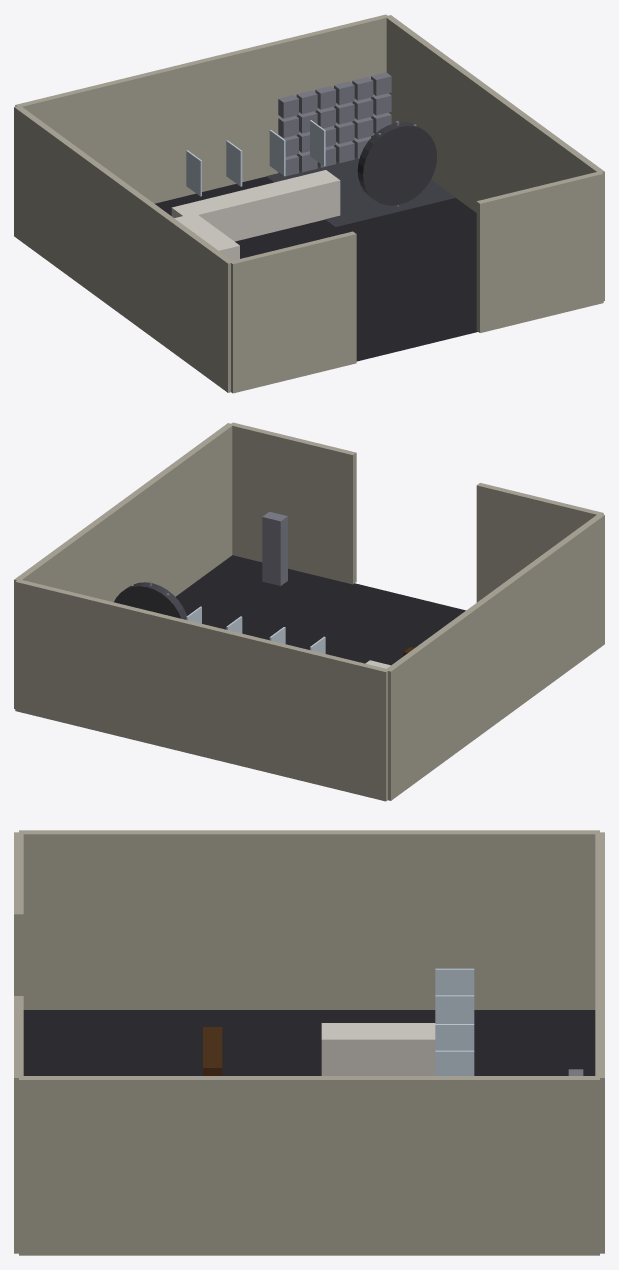
Rendered from bank_interior.obj.
3 renders of one model, top to bottom at view 1: azimuth 30°, elevation 25°; view 2: azimuth 150°, elevation 25°; view 3: azimuth 270°, elevation 25°, orthographic. The views are drawn at different scales.
Visible parts, largest first — view 1: Wall_Back, Wall_Left, BankFloor, Wall_Right, Wall_FrontR, Wall_FrontL, TellerCounter, VaultDoor, VaultFloor, TellerCounterSide, GlassPartition_1, GlassPartition_2 (+2 smaller); view 2: Wall_Back, Wall_Left, Wall_Right, BankFloor, Wall_FrontR, Wall_FrontL, BankATM, VaultDoor; view 3: Wall_Right, Wall_Left, BankFloor, TellerCounterSide, Wall_Back, Wall_FrontR, Wall_FrontL, GlassPartition_1, GlassPartition_0, GlassPartition_2, GlassPartition_3, WaitingBench.
Part boxes in pixels (x1,y1,x2,y2): Wall_Back: (15,14,388,203); Wall_Left: (14,105,232,392); BankFloor: (155,176,477,361); Wall_Right: (385,15,604,300); Wall_FrontR: (476,171,603,332); Wall_FrontL: (229,231,356,393); TellerCounter: (171,170,340,241); VaultDoor: (357,122,436,205); VaultFloor: (266,157,455,226); TellerCounterSide: (174,215,239,260); GlassPartition_1: (226,140,242,186); GlassPartition_2: (269,130,285,175); Wall_Back: (15,579,389,801); Wall_Left: (385,513,604,800); Wall_Right: (14,423,232,708); BankFloor: (176,555,465,665); Wall_FrontR: (230,422,356,584); Wall_FrontL: (476,483,603,602); BankATM: (262,511,287,585); VaultDoor: (114,582,186,619); Wall_Right: (19,1076,599,1255); Wall_Left: (19,830,599,1009); BankFloor: (23,1010,595,1075); TellerCounterSide: (321,1023,435,1075); Wall_Back: (595,832,604,1253); Wall_FrontR: (14,996,23,1253); Wall_FrontL: (14,832,23,995); GlassPartition_1: (435,995,474,1023); GlassPartition_0: (435,968,474,995); GlassPartition_2: (435,1024,474,1050); GlassPartition_3: (435,1050,474,1075); WaitingBench: (203,1027,222,1075).
Bounding box in the file's own units: 12.2 × 4 × 12.2.
